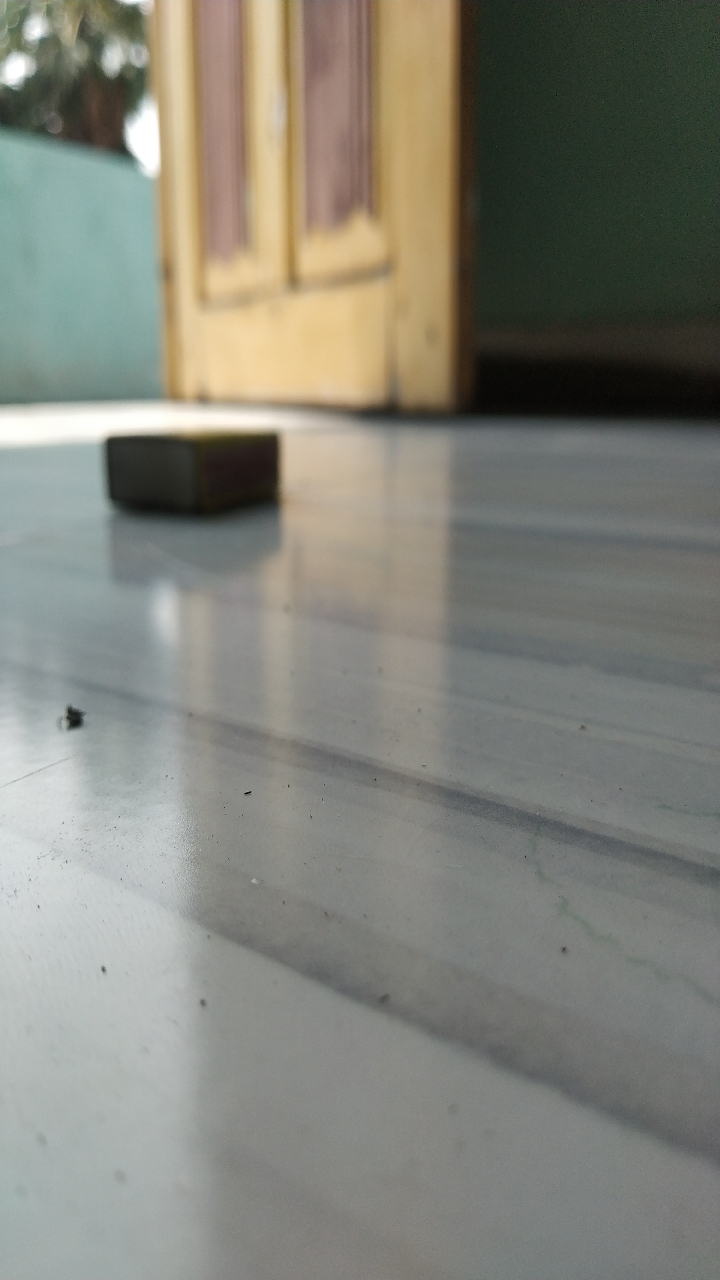Doors: (150, 1, 483, 438)
garments: (93, 415, 293, 531)
